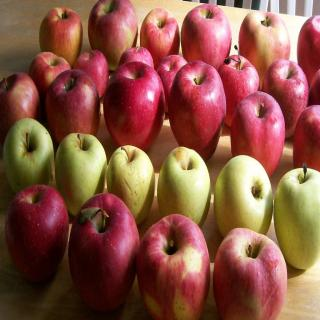Apple: (0, 0, 319, 319), (213, 226, 287, 320), (6, 184, 66, 286), (168, 57, 229, 154)
